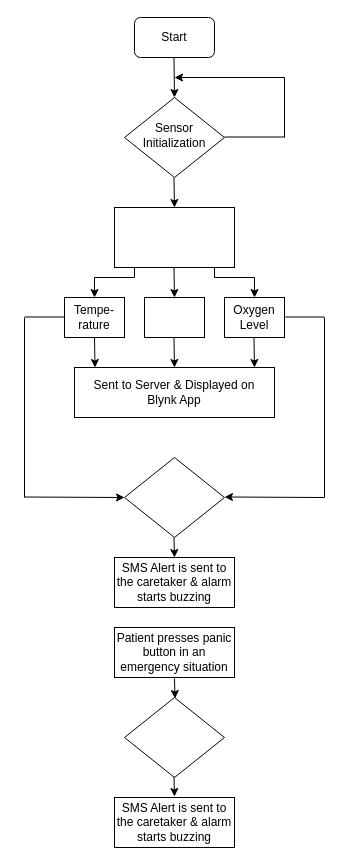
Image size: 350x865. Some labels were removed from this diagram. The box of each missing label's shape, as (x1, y1, x2, y2) in pixels:
Check the Patient Health Parameters: (114, 206, 234, 268)
Heart Rate: (144, 296, 204, 338)
If 98 < Temp SpO2 < 94: (124, 456, 224, 538)
If Panic = 1: (124, 696, 224, 778)
